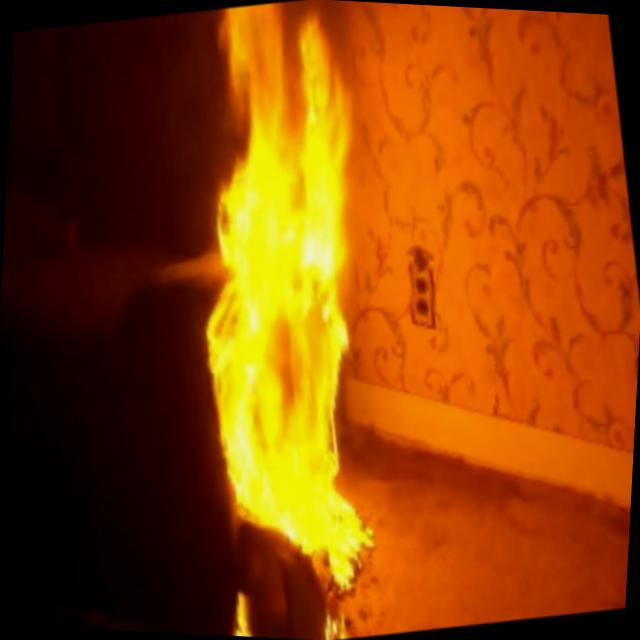fire: (136, 0, 437, 577)
